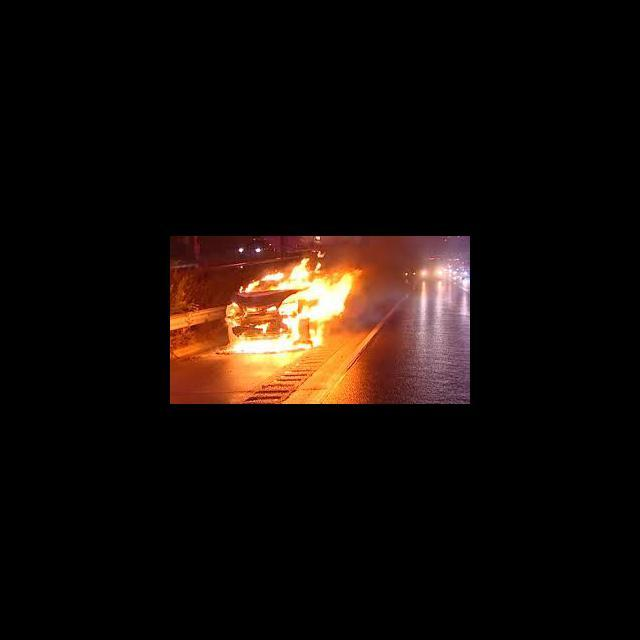Fire: (222, 262, 368, 356)
